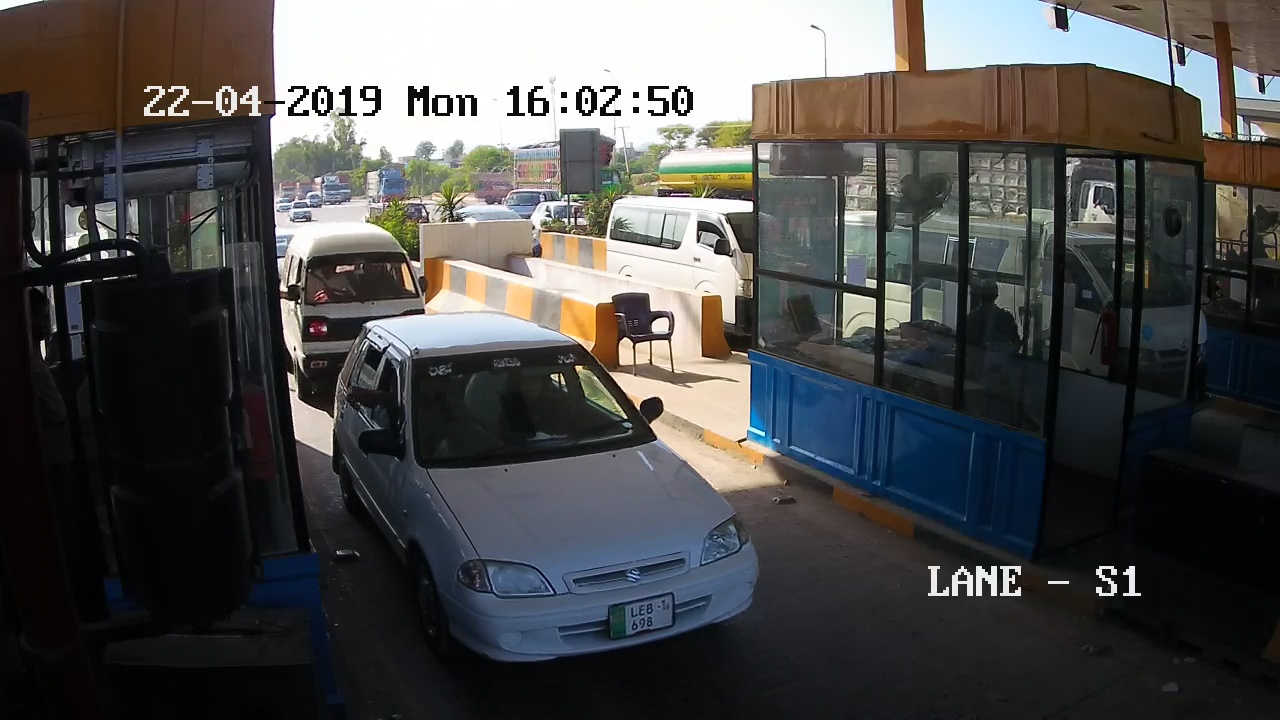Number Plate (Car): (607, 594, 678, 640)
